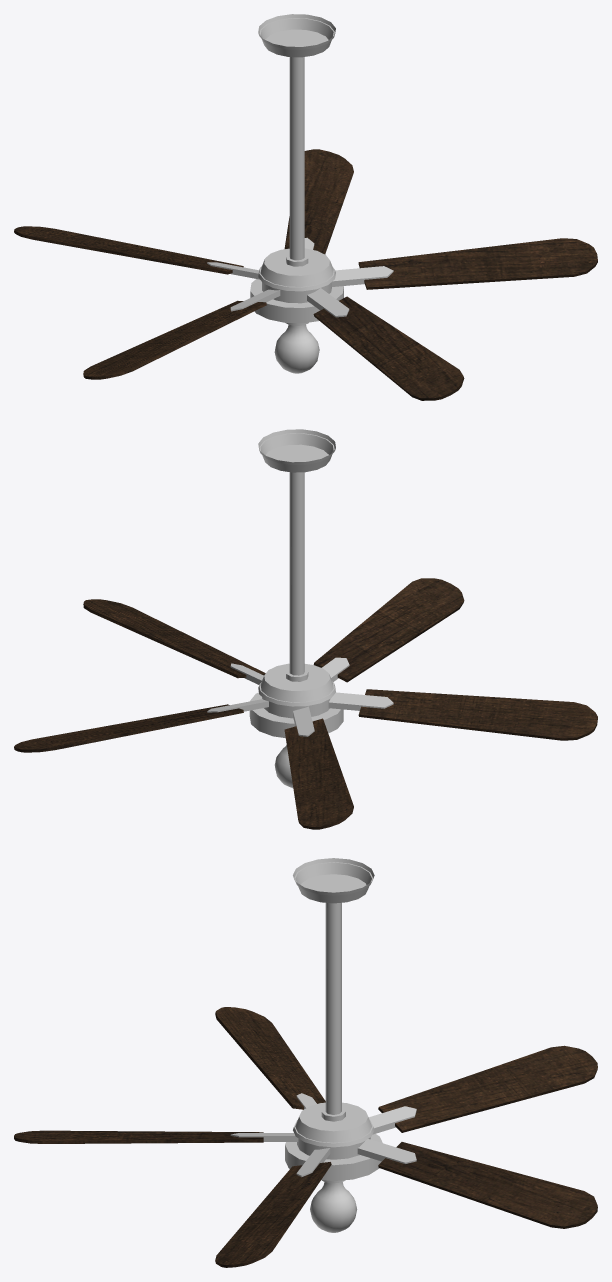
The model's file is ceiling_fan_mp_2_1_light_on.obj.
3 views of the same model, one above another, from view 1: azimuth 30°, elevation 25°; view 2: azimuth 150°, elevation 25°; view 3: azimuth 270°, elevation 25° (orthographic). The views are drawn at different scales.
Visible parts, largest first — view 1: ceiling_fan_mp_2_1_light_on_blades, ceiling_fan_mp_2_1_light_on; view 2: ceiling_fan_mp_2_1_light_on_blades, ceiling_fan_mp_2_1_light_on; view 3: ceiling_fan_mp_2_1_light_on_blades, ceiling_fan_mp_2_1_light_on.
Part boxes in pixels (bbox=[...]): ceiling_fan_mp_2_1_light_on_blades: bbox=[14, 149, 597, 400]; ceiling_fan_mp_2_1_light_on: bbox=[250, 14, 343, 373]; ceiling_fan_mp_2_1_light_on_blades: bbox=[14, 578, 597, 829]; ceiling_fan_mp_2_1_light_on: bbox=[249, 429, 343, 788]; ceiling_fan_mp_2_1_light_on_blades: bbox=[14, 1007, 597, 1267]; ceiling_fan_mp_2_1_light_on: bbox=[285, 858, 382, 1232].
Bounding box in the file's own units: 1.11 × 0.7128 × 1.06.
